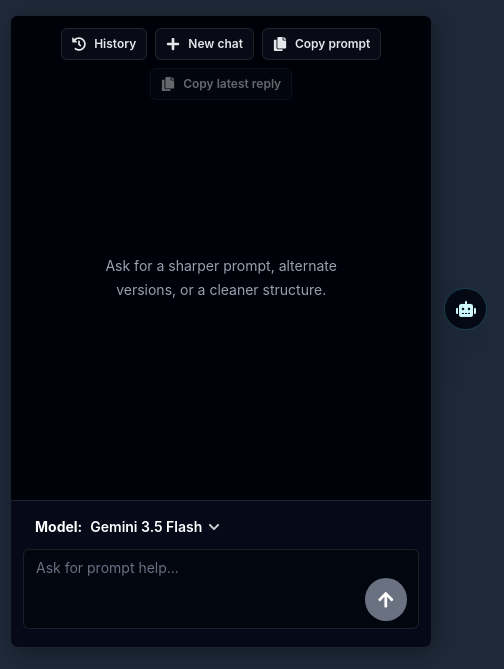
PromptChatPanel history management › cancels an inline rename on Escape without persisting
Click the button "History" at (104,44), box [61,28,147,60]
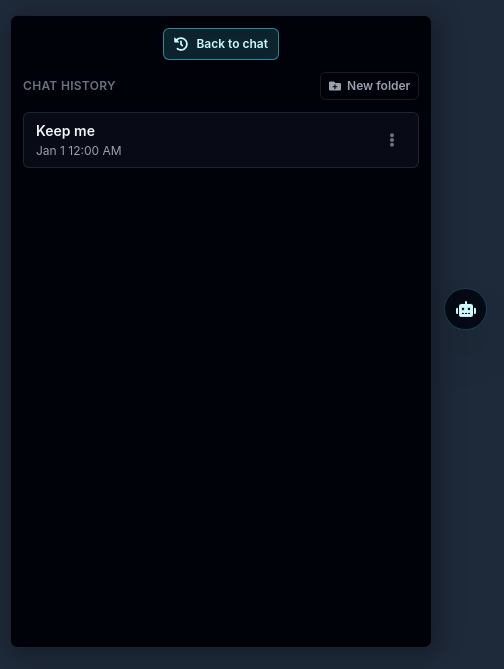
Now the text "Keep me" is shown, box [36,121,95,141]
Click the button named "Conversation actions" at (392,140), box [378,126,406,154]
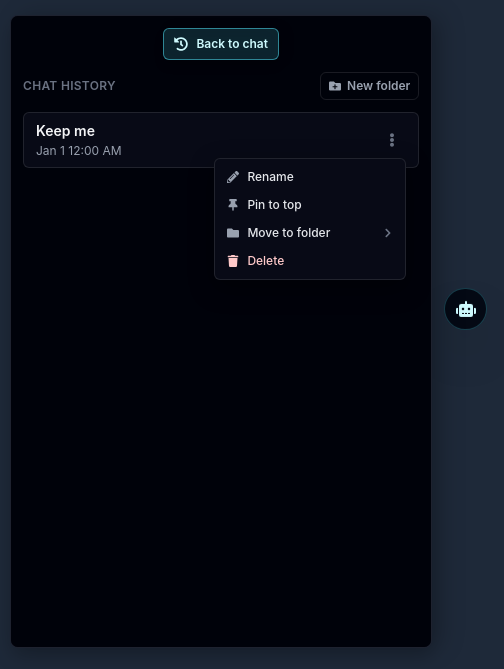
Click the menu item "Rename" at (310,177), box [215,163,405,191]
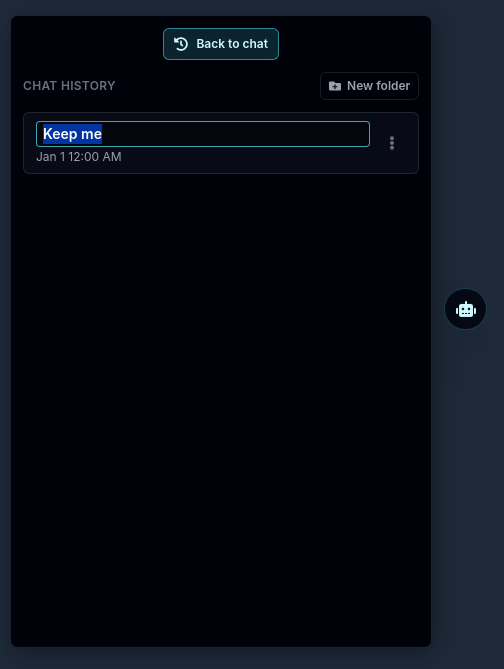
Replace the text in the field named "Conversation title" with "Discarded" at (203,134), box [36,121,370,147]
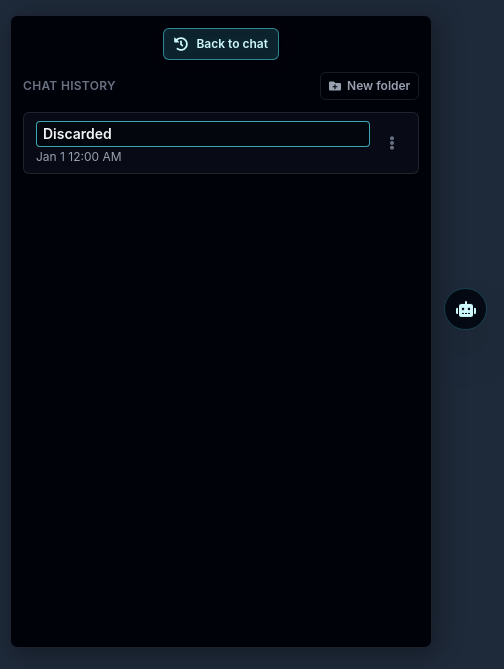
Press Escape in the field named "Conversation title", box [36,121,370,147]
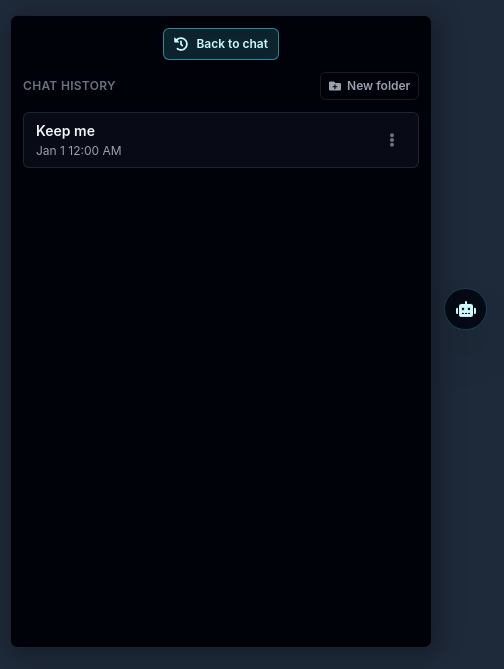
Expected: the text "Discarded" is not shown
Now the text "Keep me" is shown, box [36,121,95,141]
